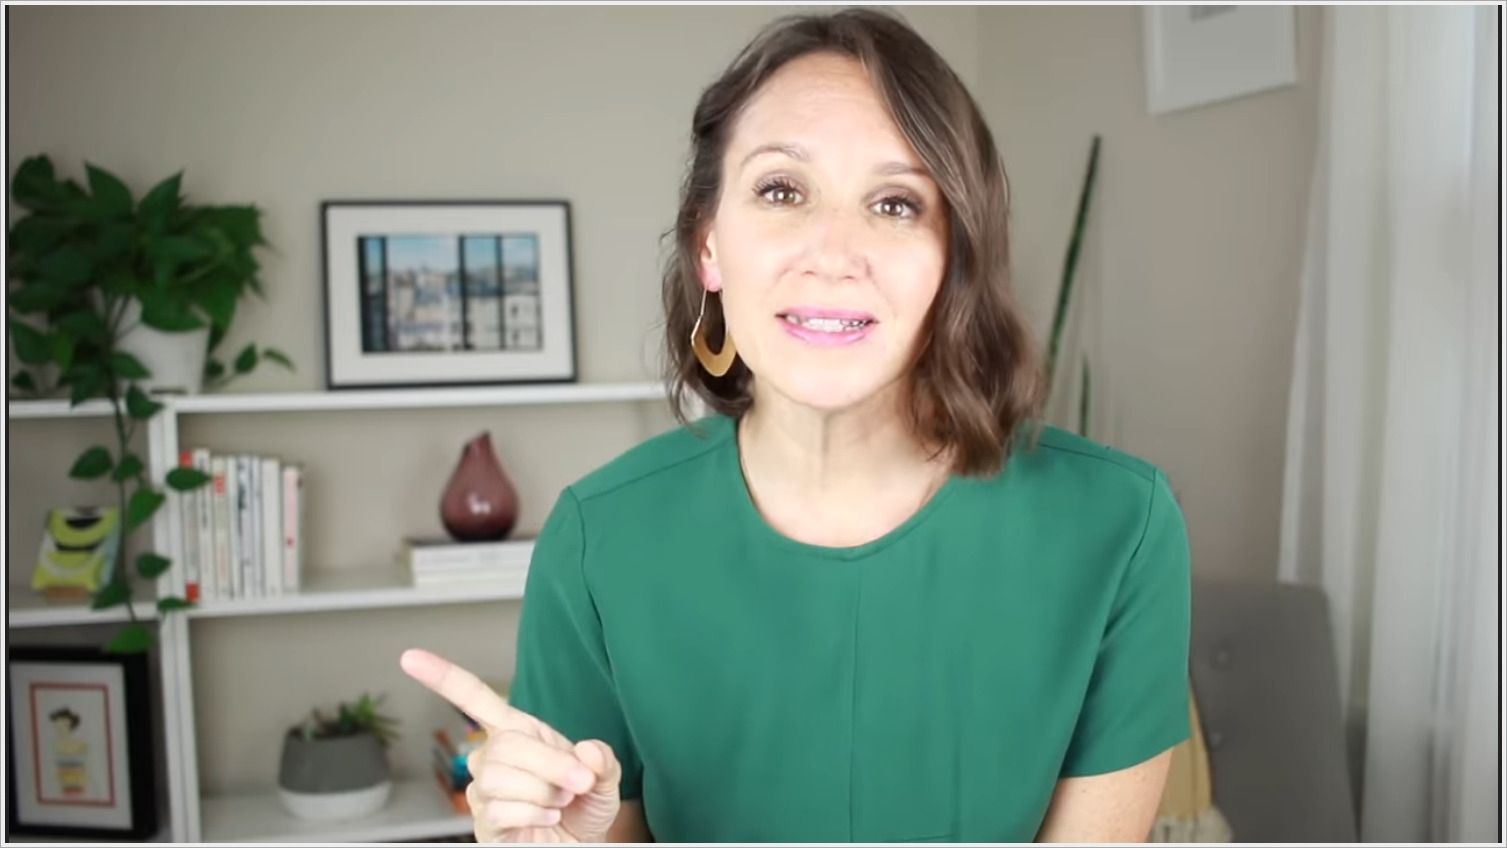hand: (398, 646, 625, 844)
